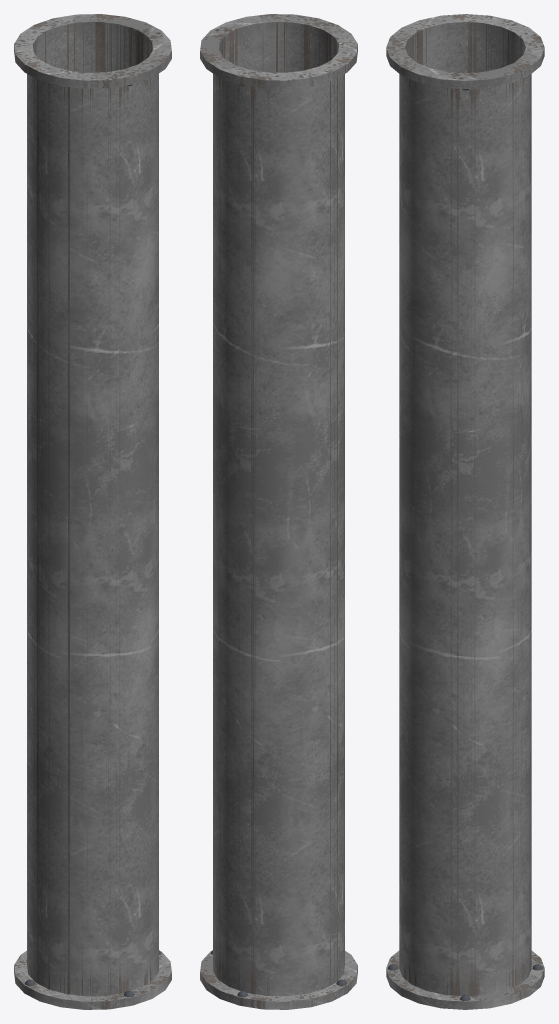
Rendered from Tuyau_V1.fbx.
3 views of the same model, side by side, from view 1: azimuth 30°, elevation 25°; view 2: azimuth 150°, elevation 25°; view 3: azimuth 270°, elevation 25° (orthographic).
Visible parts, largest first — view 1: Tuyau_V1; view 2: Tuyau_V1; view 3: Tuyau_V1.
Boxes of the visible parts, x1=… form: Tuyau_V1: x1=14, y1=14, x2=171, y2=1009; Tuyau_V1: x1=200, y1=14, x2=357, y2=1009; Tuyau_V1: x1=386, y1=14, x2=544, y2=1009.
Bounding box in the file's own units: 0.1702 × 1.1 × 0.1702.
1 material, 1 textured.
